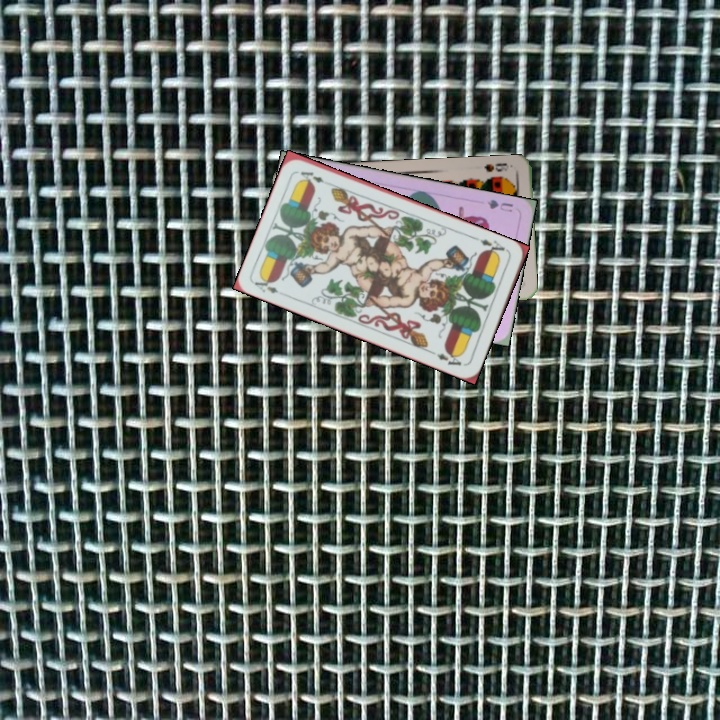EA: (476, 235, 510, 259), (250, 273, 281, 296)
GU: (483, 195, 516, 215)
S8: (480, 159, 515, 175)
